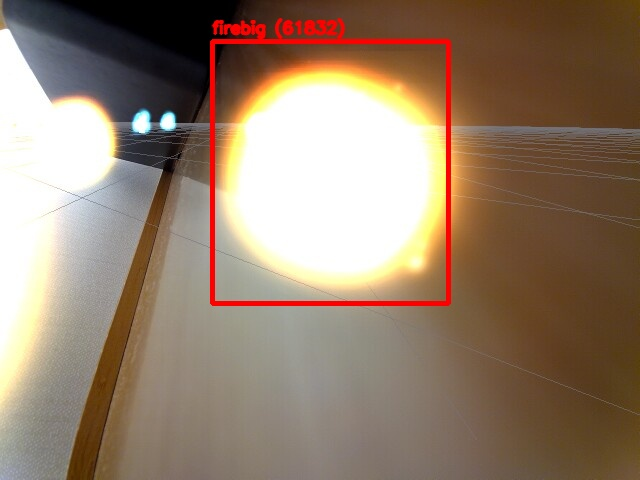firebig: (212, 41, 448, 303)
